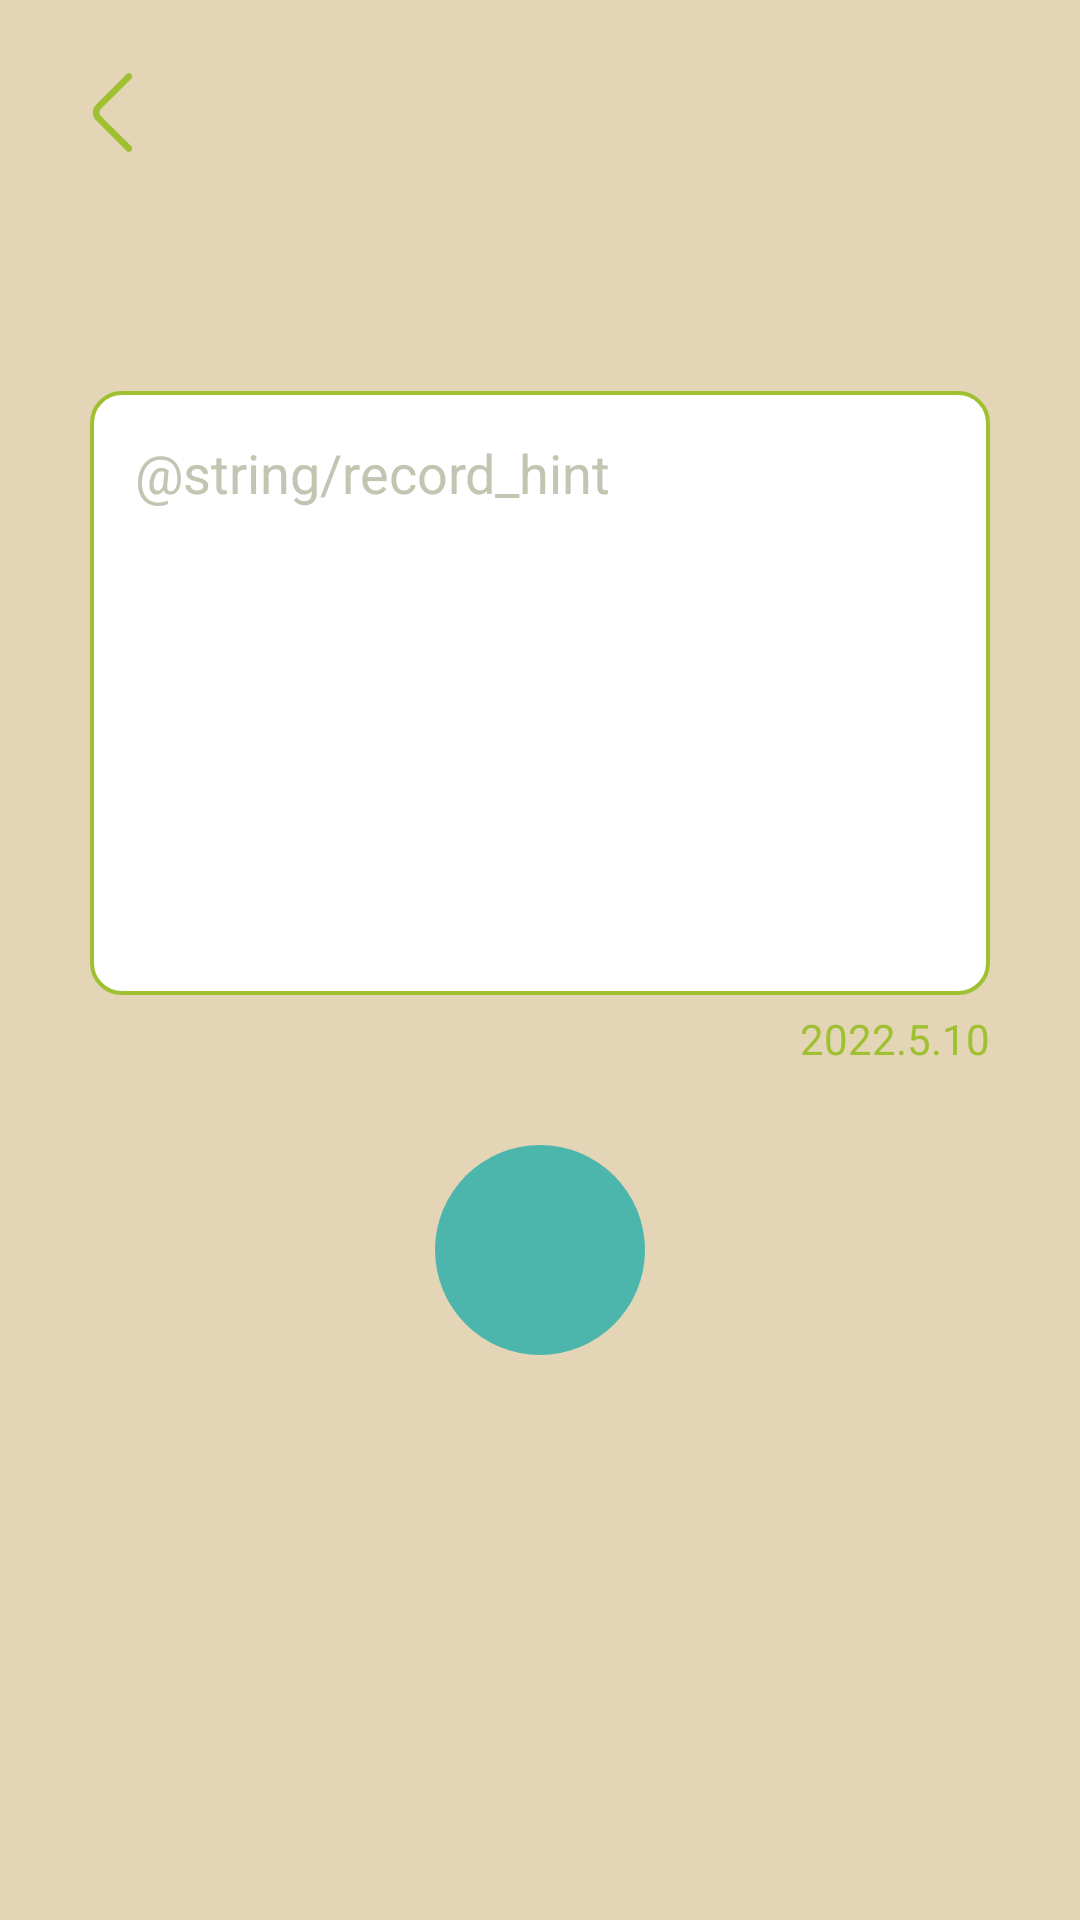

Icon bounding boxes for this 1080x1920 phone screenshot, format bbox=(x1, y1, x2, y2):
left: bbox=(93, 73, 133, 152)
